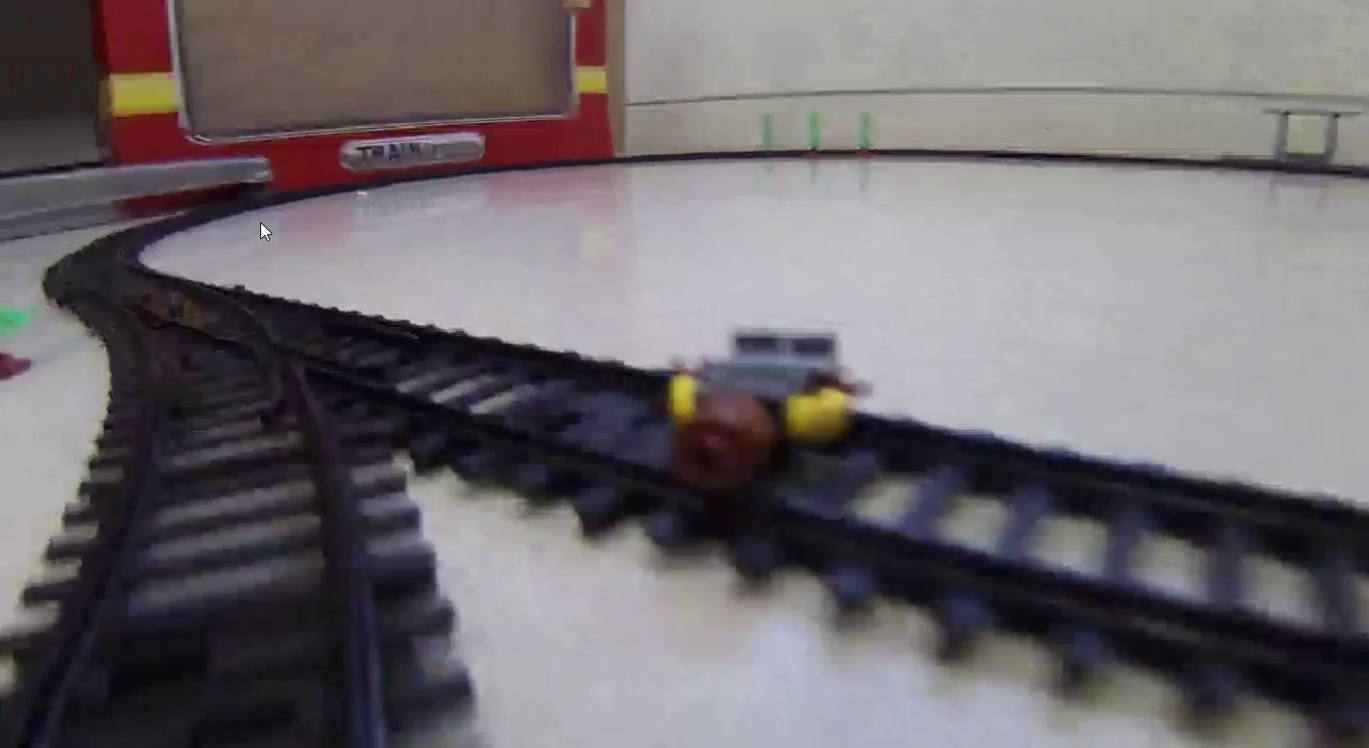people: (668, 325, 859, 487)
